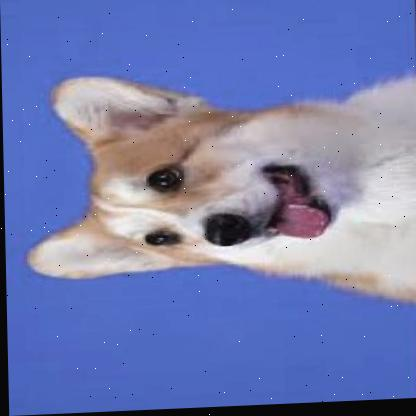dog: (23, 61, 416, 322)
